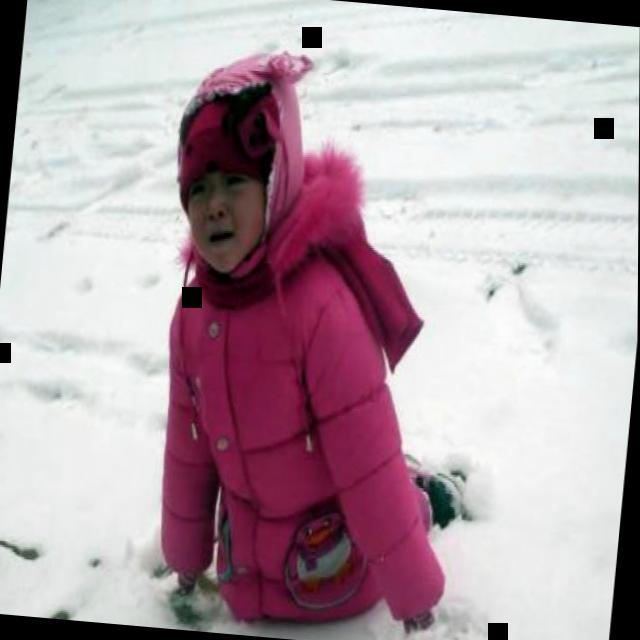Fall-Detected: (133, 24, 528, 636)
